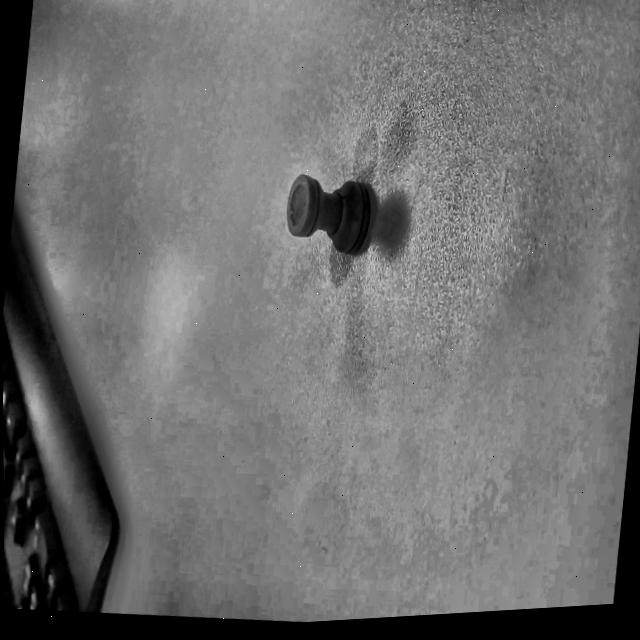white-rook: (286, 174, 369, 253)
